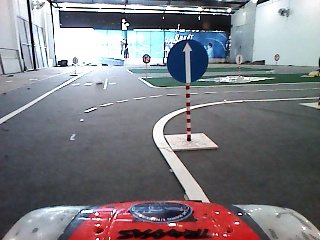straight: (167, 40, 209, 83)
